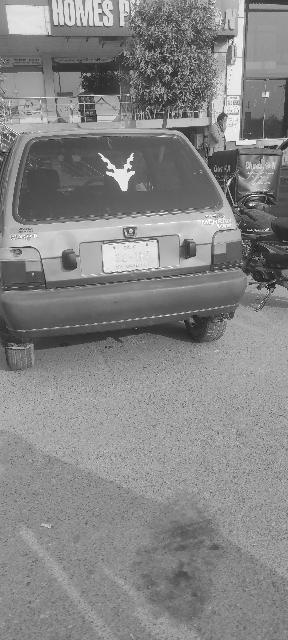Number: (112, 249, 148, 263)
